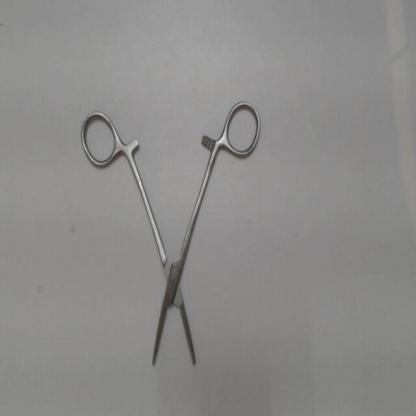Mayo Needle Holder: (76, 94, 266, 377)
